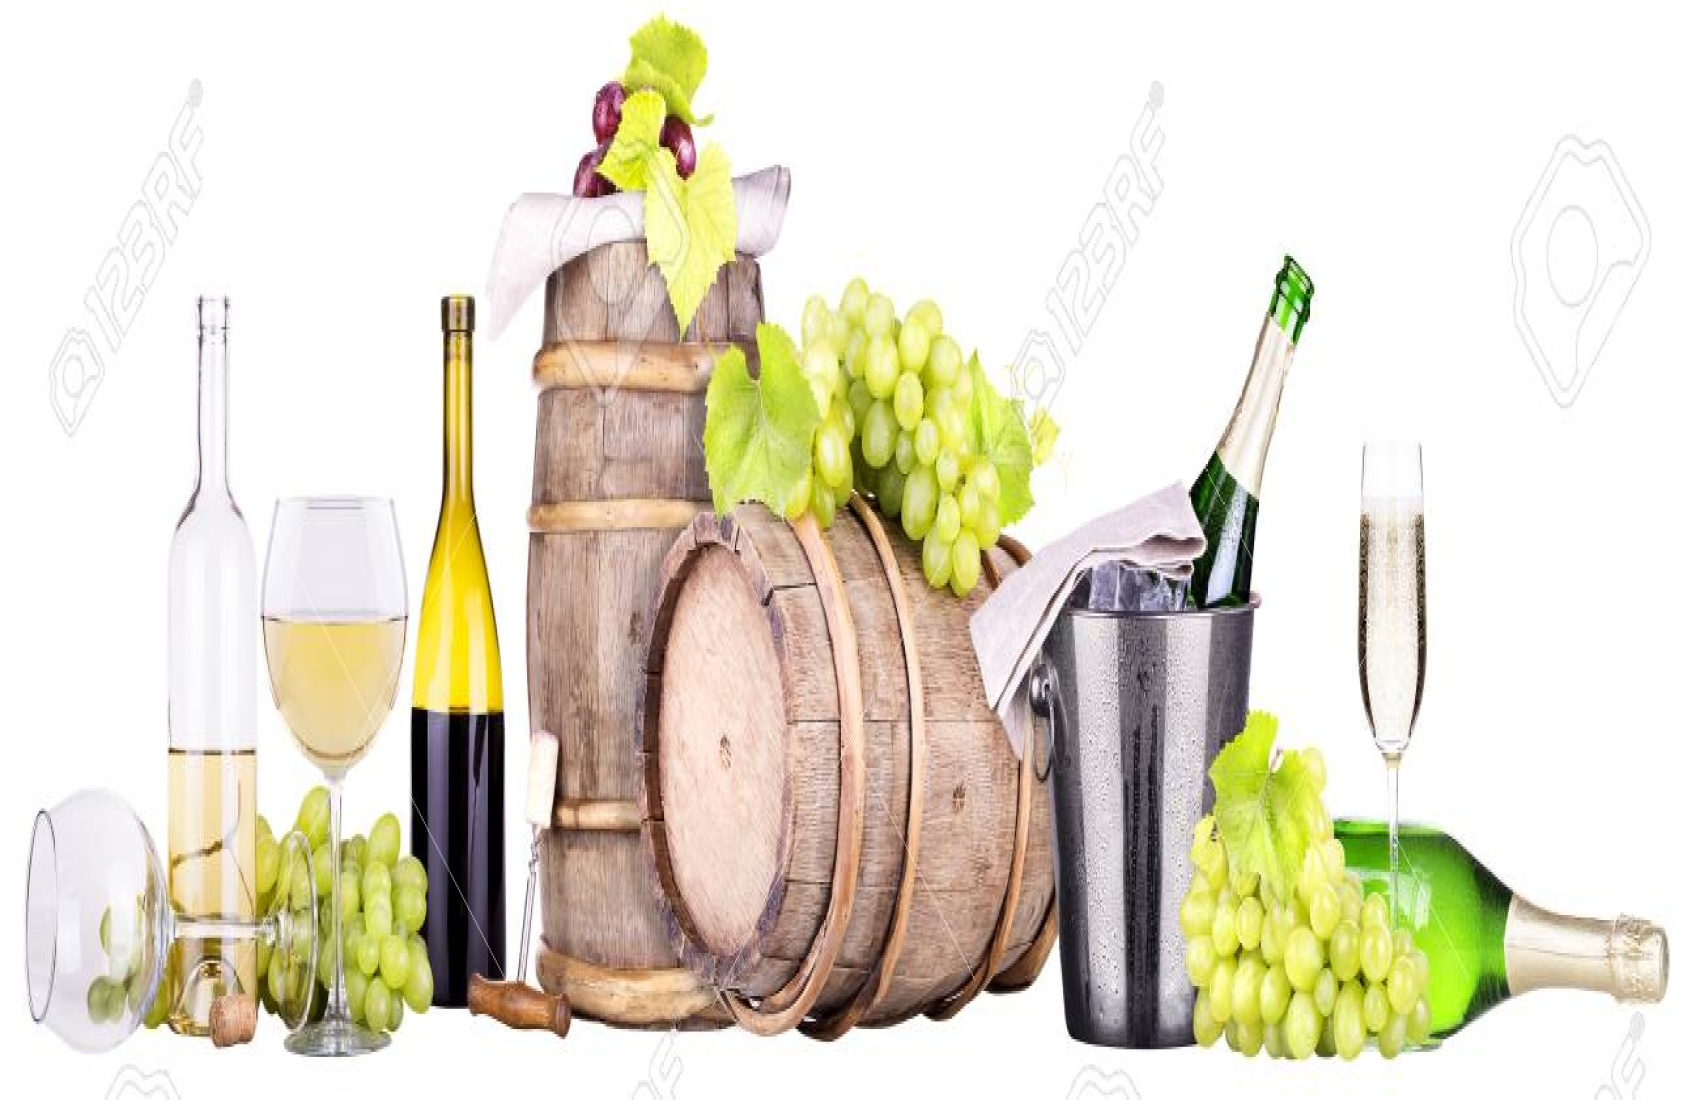wine: (404, 294, 509, 1001), (160, 318, 265, 1024)
